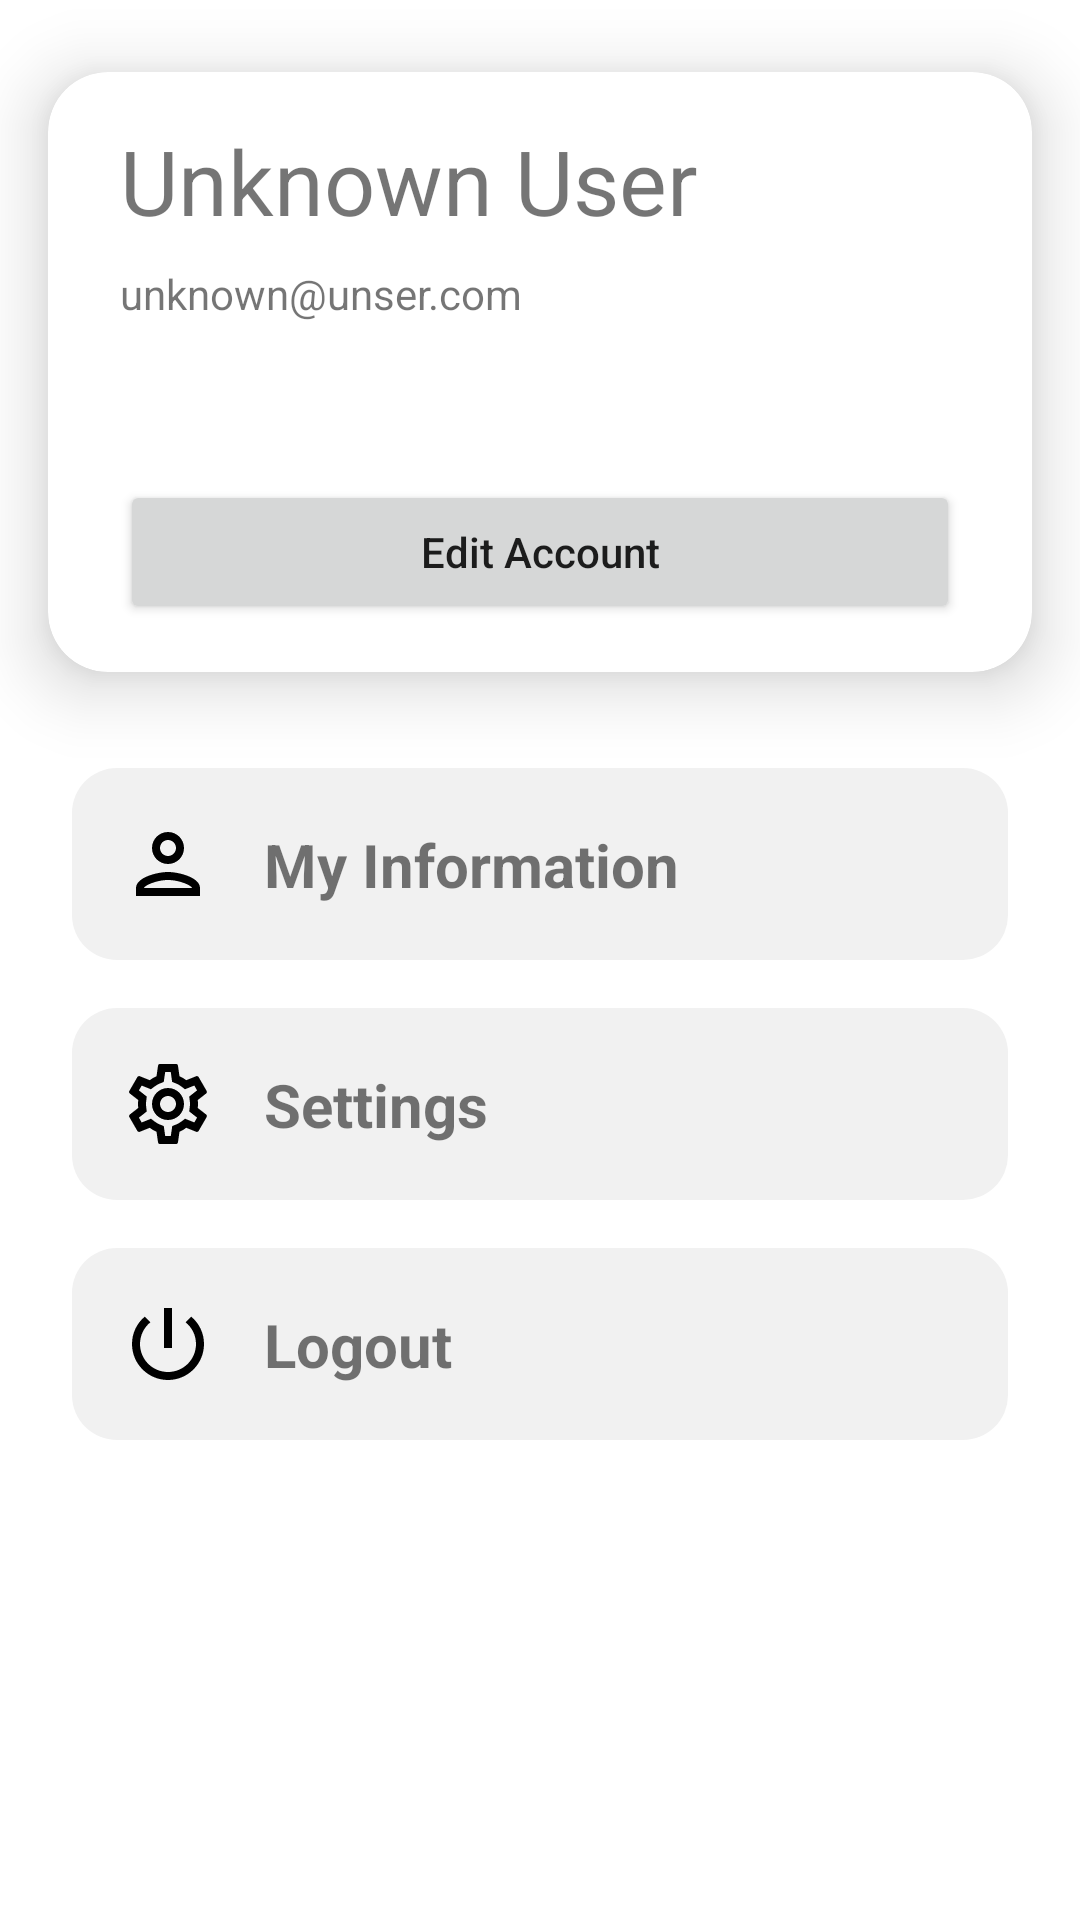

Named icons in this screenshot (1080×1920) and their bounding boxes, (x1, y1, x2, y2):
person: (136, 832, 200, 896)
power settings: (132, 1308, 204, 1380)
